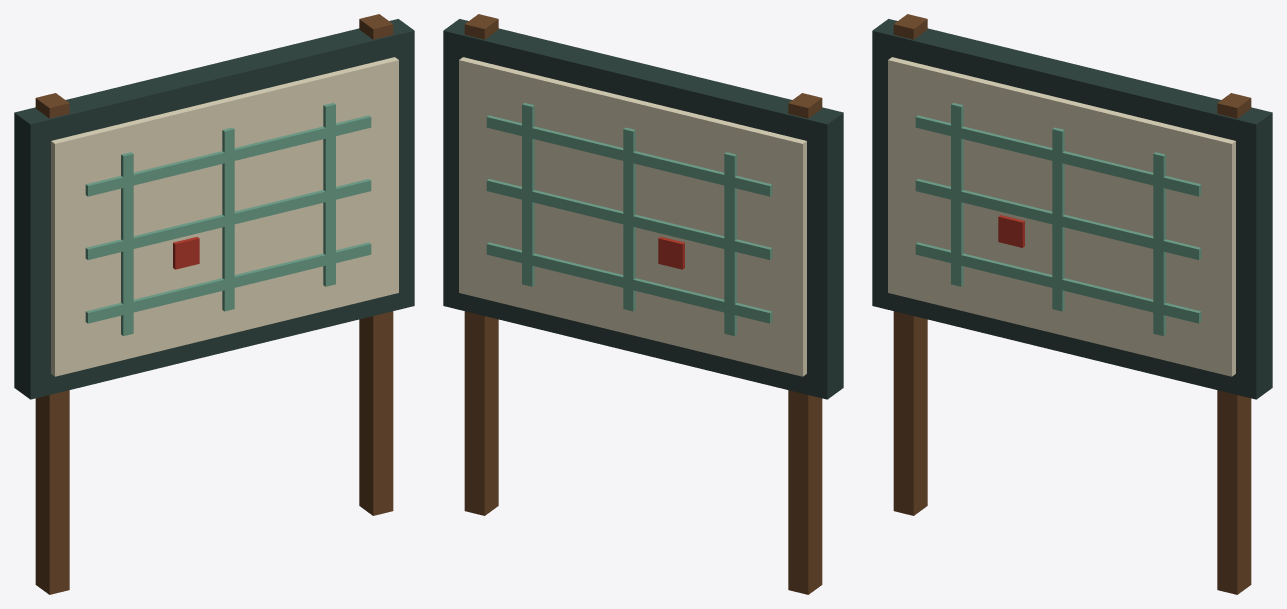
File: StreetNoticeboard.obj
3 views of the same model, side by side, from view 1: azimuth 30°, elevation 25°; view 2: azimuth 150°, elevation 25°; view 3: azimuth 330°, elevation 25° (orthographic).
Parts seen in each view (by area): view 1: StreetNoticeboard; view 2: StreetNoticeboard; view 3: StreetNoticeboard.
Boxes of the visible parts, x1,y1,x2,y2 form: StreetNoticeboard: (14, 14, 414, 594); StreetNoticeboard: (443, 14, 843, 594); StreetNoticeboard: (872, 14, 1272, 594).
Bounding box in the file's own units: 1.9 × 2.3 × 0.3.
Materials: 1 (1 with a texture image).
